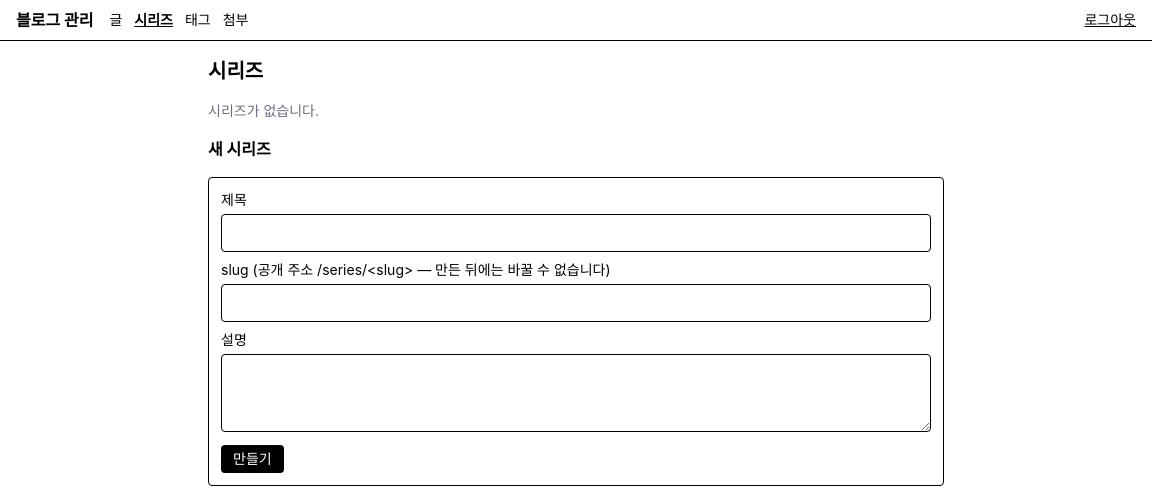
Test: 인증 흐름 › 시리즈를 만드는 중에 401이 오면 로그인 화면으로 간다
Type "제목입니다" into the field labelled "제목" at (576, 233), box [221,214,931,252]
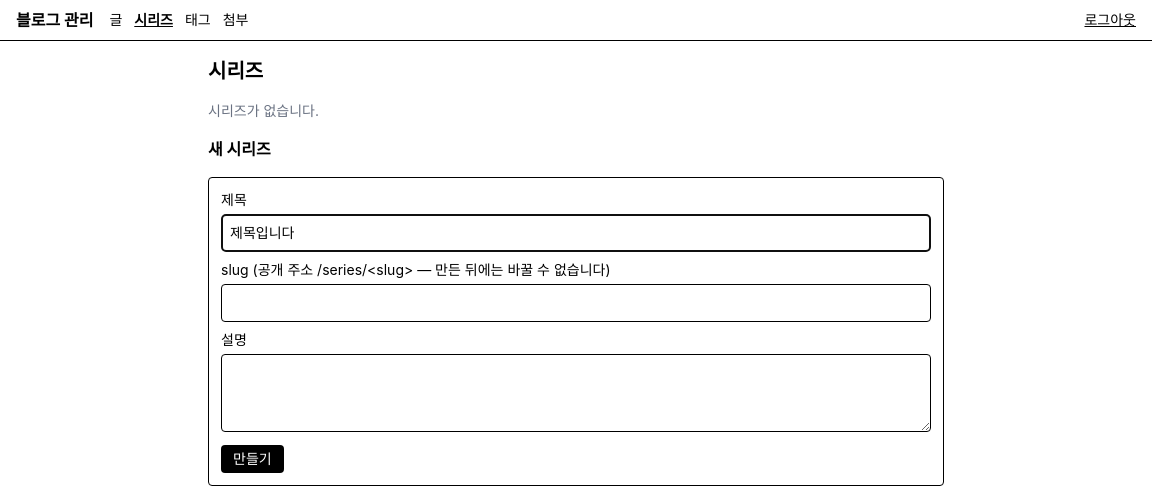
Type "my-series" into the field labelled "slug (공개 주소 /series/<slug> — 만든 뒤에는 바꿀 수 없습니다)" at (576, 303), box [221,284,931,322]
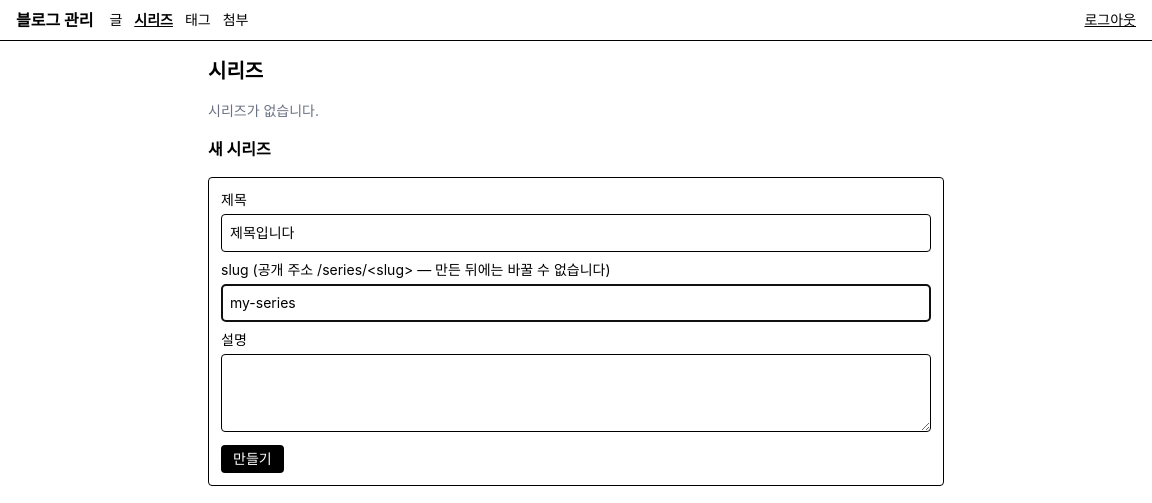
Click the button "만들기" at (252, 459), box [221,445,284,473]
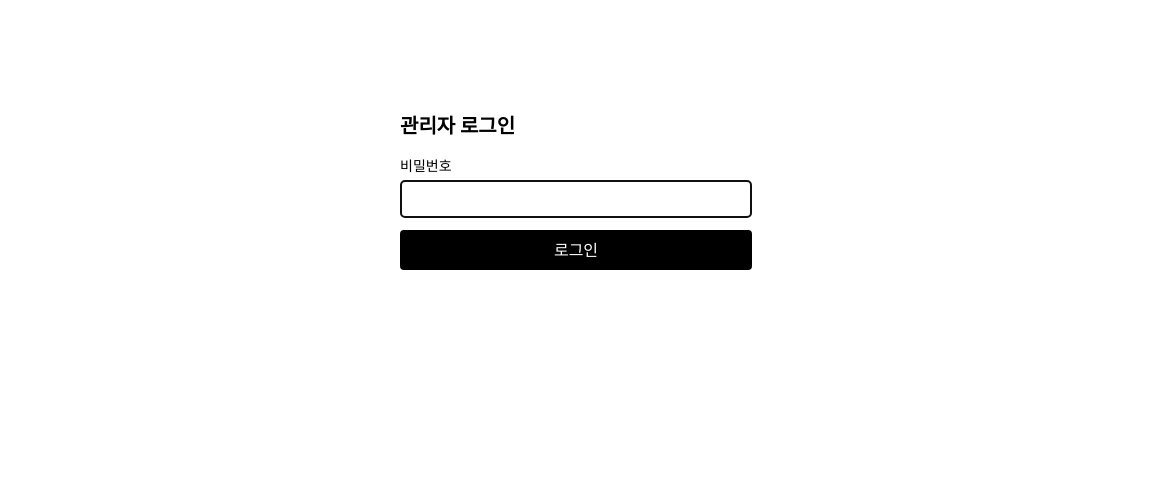
Expected: the heading "관리자 로그인" is shown, [400,114,515,138]
